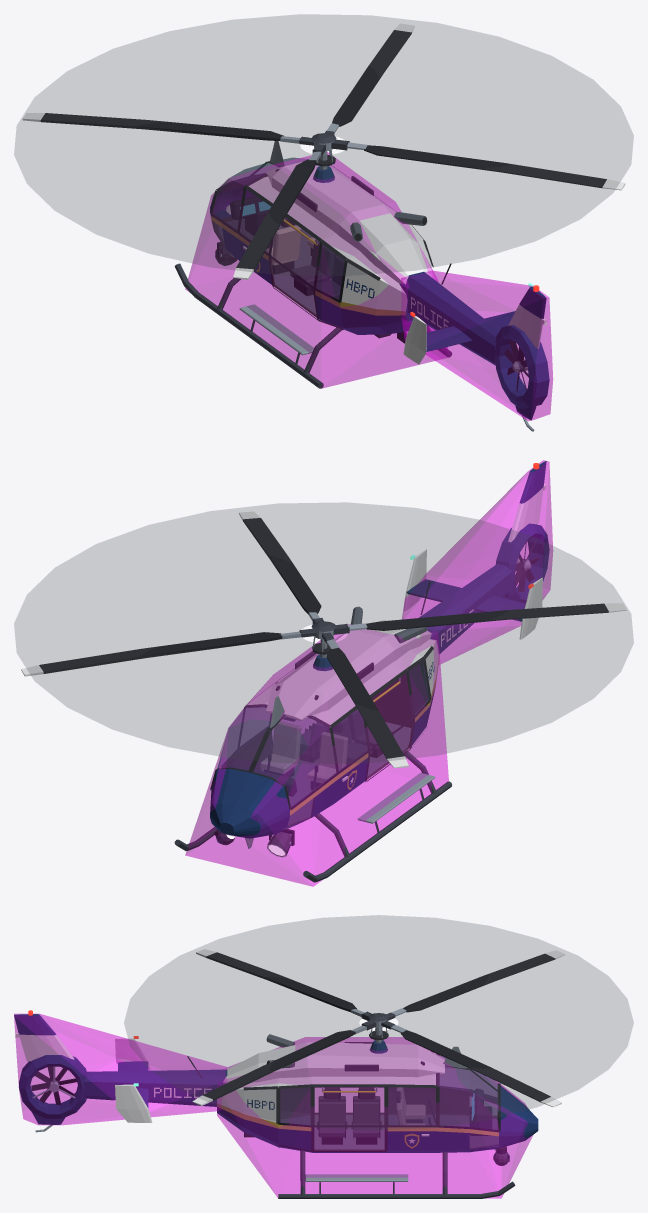
The model's file is heli_police.glb.
3 views of the same model, one above another, from view 1: azimuth 30°, elevation 25°; view 2: azimuth 150°, elevation 25°; view 3: azimuth 270°, elevation 25° (orthographic). The views are drawn at different scales.
Parts seen in each view (by area): view 1: RotorBlur_Main, Body, Col_Body, Col_Tail, Rotor_Main, Glass_Windshield, Glass_RL, Glass_L; view 2: RotorBlur_Main, Body, Col_Body, Col_Tail, Rotor_Main, Glass_Windshield, Glass_L, Door_FL, Glass_RL, Door_FR; view 3: RotorBlur_Main, Body, Col_Body, Col_Tail, Rotor_Main, Glass_Windshield, Glass_R, Door_FR, Glass_RR, Door_FL, Rotor_Tail.
Boxes of the visible parts, left/top/right/bottom form: RotorBlur_Main: left=14, top=14, right=633, bottom=275; Body: left=174, top=141, right=549, bottom=431; Col_Body: left=185, top=152, right=448, bottom=388; Col_Tail: left=401, top=270, right=553, bottom=421; Rotor_Main: left=22, top=23, right=625, bottom=279; Glass_Windshield: left=212, top=157, right=308, bottom=229; Glass_RL: left=316, top=245, right=344, bottom=299; Glass_L: left=240, top=190, right=270, bottom=252; RotorBlur_Main: left=14, top=502, right=633, bottom=763; Body: left=174, top=461, right=549, bottom=882; Col_Body: left=185, top=624, right=448, bottom=886; Col_Tail: left=402, top=460, right=552, bottom=664; Rotor_Main: left=21, top=511, right=626, bottom=768; Glass_Windshield: left=217, top=706, right=335, bottom=806; Glass_L: left=333, top=709, right=367, bottom=770; Door_FL: left=334, top=750, right=368, bottom=803; Glass_RL: left=409, top=661, right=428, bottom=714; Door_FR: left=239, top=730, right=272, bottom=769; RotorBlur_Main: left=124, top=915, right=633, bottom=1130; Body: left=14, top=1010, right=538, bottom=1198; Col_Body: left=217, top=1037, right=532, bottom=1198; Col_Tail: left=14, top=1013, right=226, bottom=1125; Rotor_Main: left=192, top=949, right=565, bottom=1107; Glass_Windshield: left=438, top=1055, right=498, bottom=1129; Glass_R: left=388, top=1087, right=435, bottom=1124; Door_FR: left=387, top=1127, right=437, bottom=1150; Glass_RR: left=280, top=1087, right=310, bottom=1124; Door_FL: left=388, top=1087, right=435, bottom=1113; Rotor_Tail: left=31, top=1066, right=76, bottom=1104.
Size of the model in its own units: 10.4 by 3.64 by 12.64.
